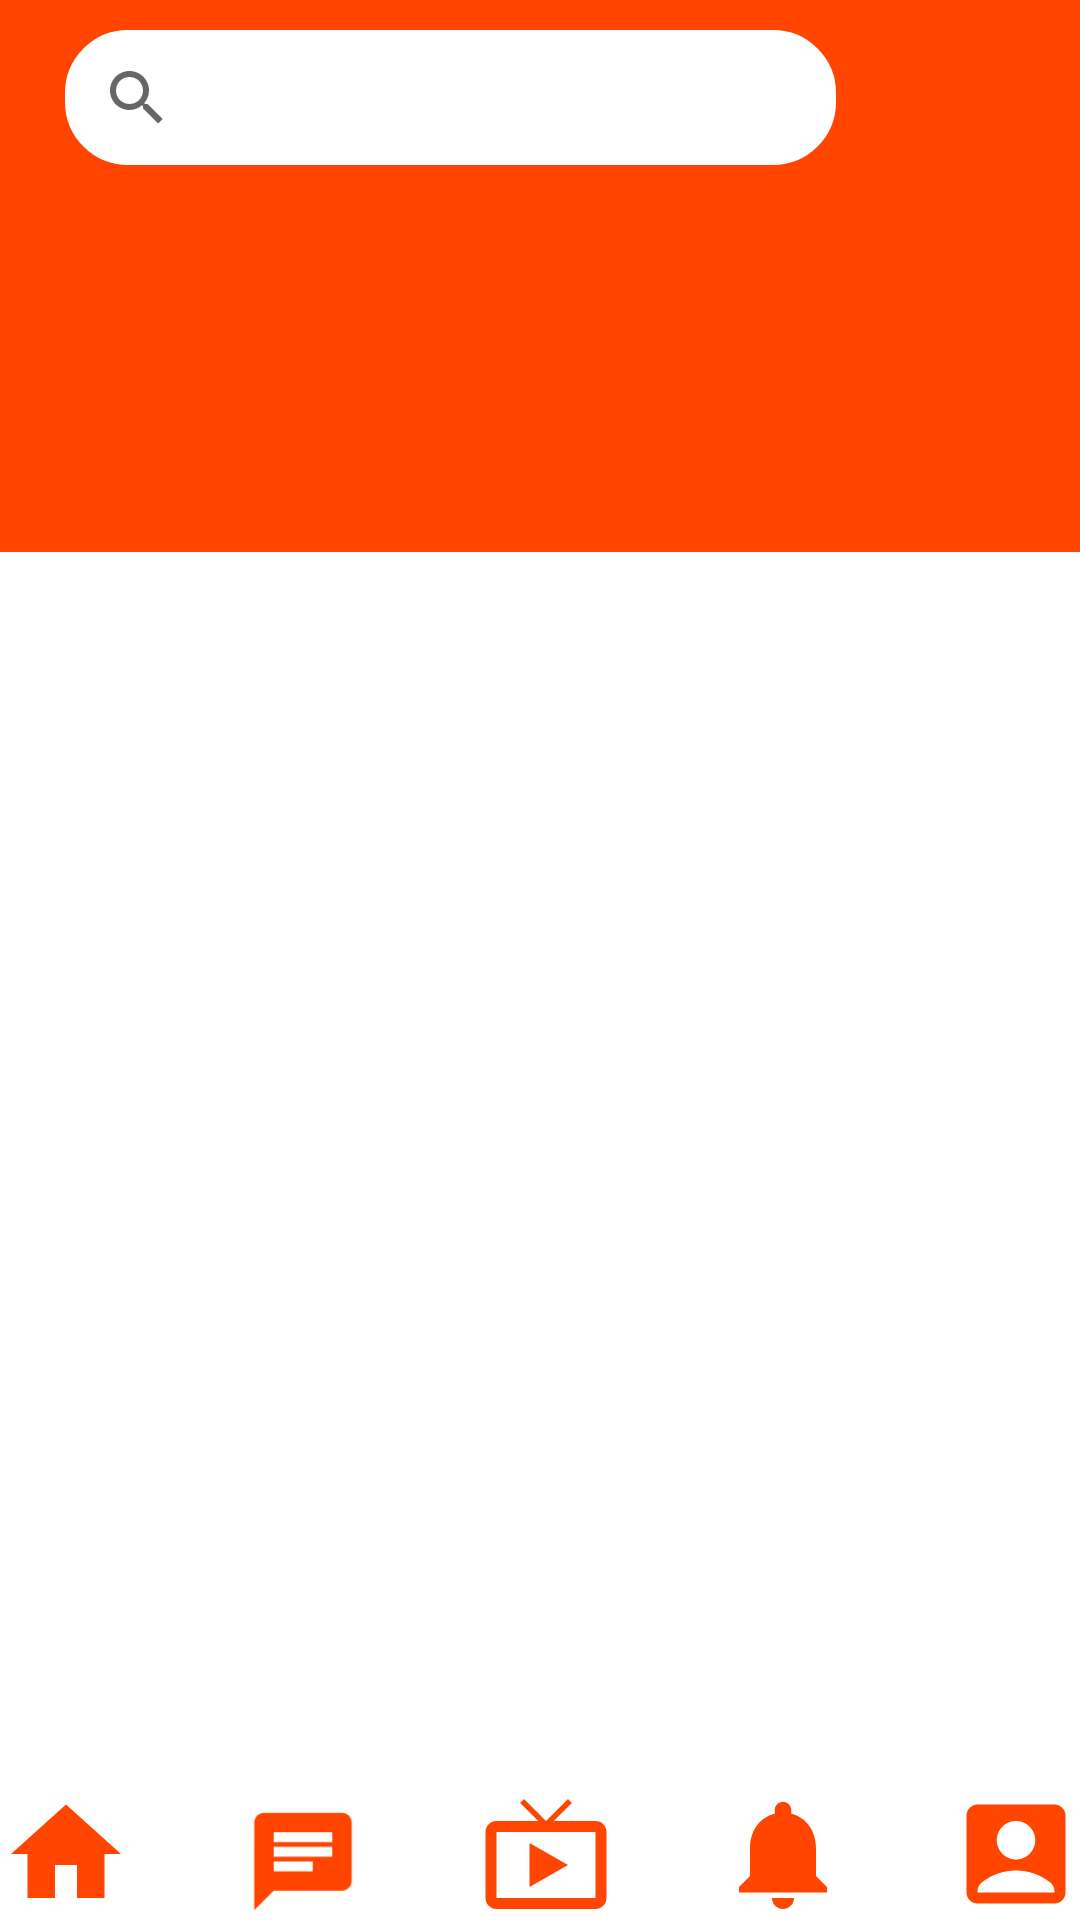

Point at icon controls on the screen. Image size 1080px×1920px, points as (x,y).
chat: (303,1861)
live tv: (546,1854)
notifications: (783,1855)
